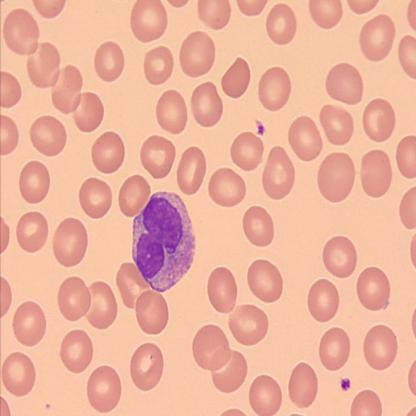Monocyte: (130, 190, 196, 292)
